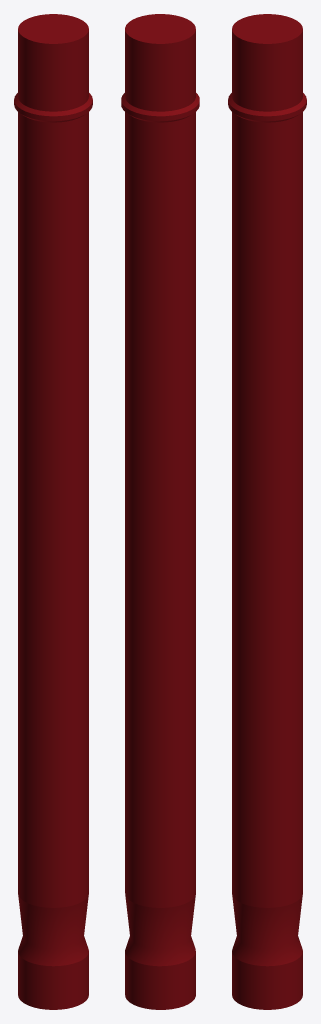
Rendered from SM_MH_01_Wood_Pillar_02.fbx.
3 renders of one model, left to right at view 1: azimuth 90°, elevation 25°; view 2: azimuth 210°, elevation 25°; view 3: azimuth 270°, elevation 25°, orthographic.
Parts seen in each view (by area): view 1: SM_MH_01_Wood_Pillar_02_LOD0; view 2: SM_MH_01_Wood_Pillar_02_LOD0; view 3: SM_MH_01_Wood_Pillar_02_LOD0.
Part boxes in pixels (x1=…): SM_MH_01_Wood_Pillar_02_LOD0: x1=14, y1=14, x2=92, y2=1009; SM_MH_01_Wood_Pillar_02_LOD0: x1=121, y1=14, x2=199, y2=1009; SM_MH_01_Wood_Pillar_02_LOD0: x1=228, y1=14, x2=306, y2=1009.
Size of what is drawn, in the model's own units: 22.2 by 300 by 22.2.
